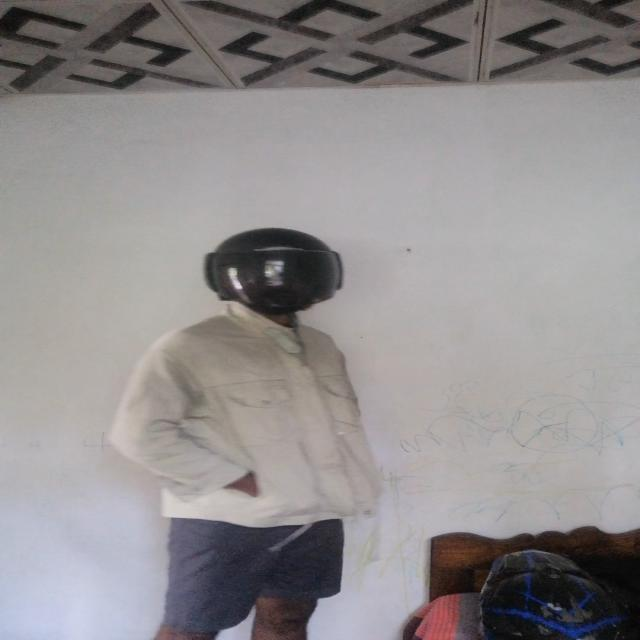Helmet_Wearer: (202, 227, 354, 333)
Jacket_Wearer: (120, 303, 406, 546)
Person: (122, 219, 390, 640)
